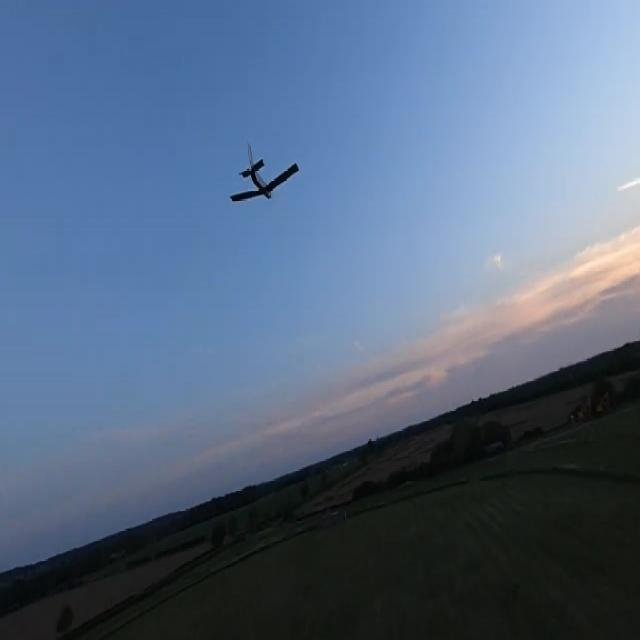iha: (258, 147, 260, 207)
